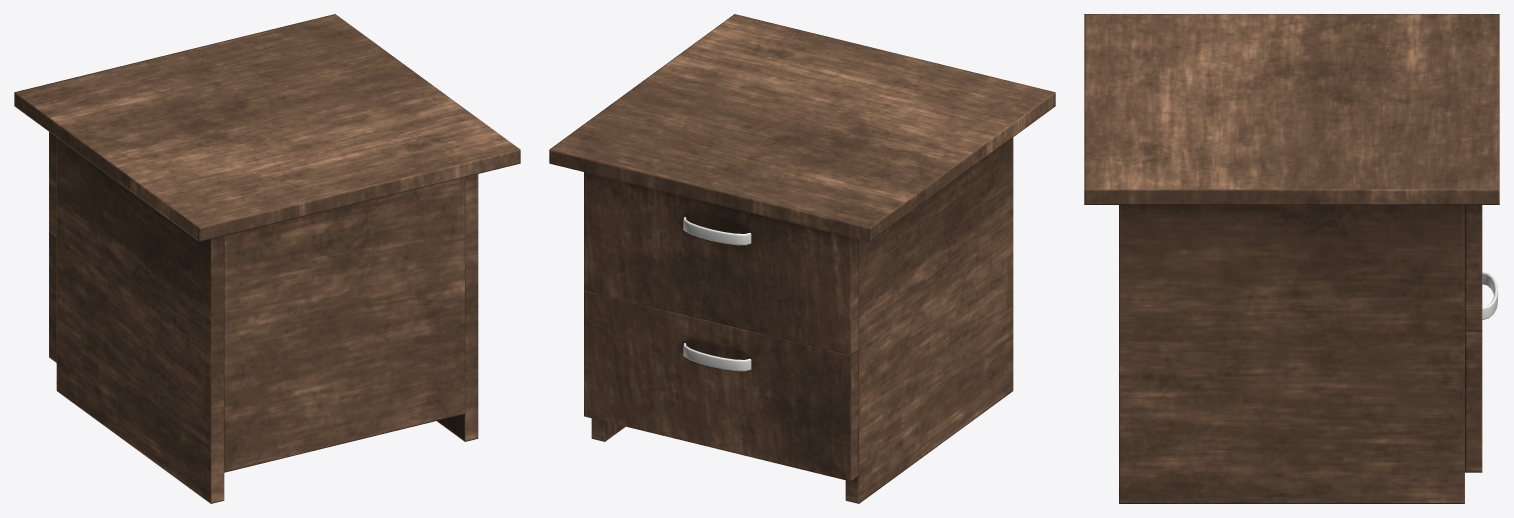
Rendered from bedside_cabinet.glb.
The picture shows the model from 3 angles, left to right: view 1: azimuth 30°, elevation 25°; view 2: azimuth 150°, elevation 25°; view 3: azimuth 270°, elevation 25°; orthographic projection. The views are drawn at different scales.
Visible parts, largest first — view 1: nightstand, box1, box2; view 2: nightstand, box1, box2; view 3: nightstand, box1, box2.
Boxes of the visible parts, x1,y1,x2,y2 form: nightstand: (14, 14, 520, 503); box1: (49, 232, 56, 362); box2: (49, 132, 56, 236); nightstand: (549, 14, 1055, 503); box1: (584, 290, 858, 481); box2: (584, 172, 858, 355); nightstand: (1084, 14, 1499, 503); box1: (1465, 271, 1497, 472); box2: (1465, 205, 1482, 331).
Bounding box in the file's own units: 2.4 × 2.1 × 2.4.
Materials: 1 (1 with a texture image).
